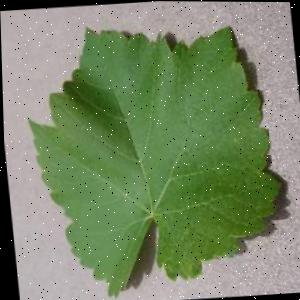Folha: (17, 10, 292, 300)
